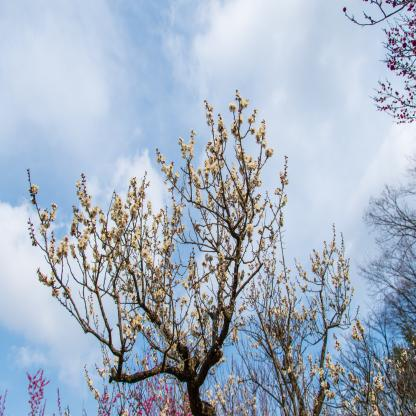Ume: (18, 88, 294, 416), (233, 220, 416, 416), (0, 346, 195, 415), (338, 0, 416, 133)
